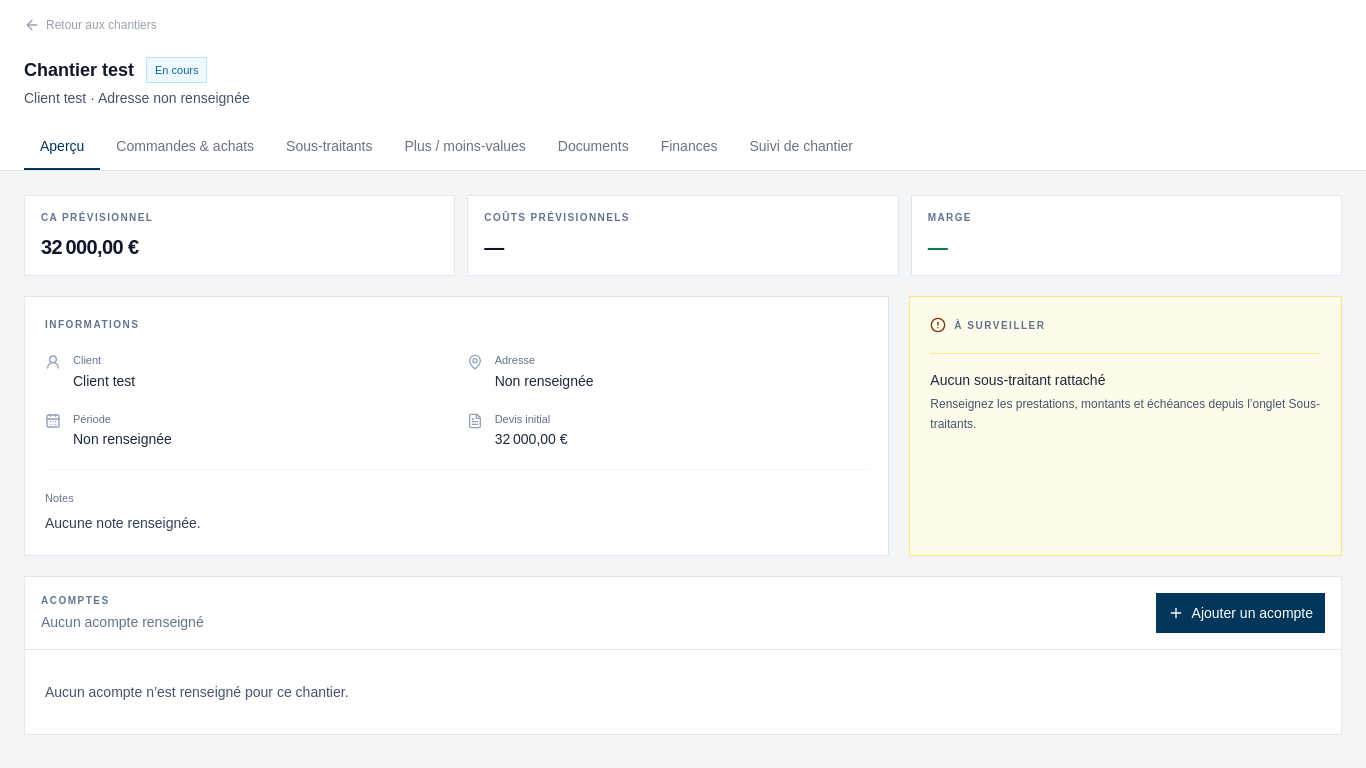
Test: chantier adjustment sheet › opens the clicked row in a right-hand sheet with its actual values
Click the button "Plus / moins-values" at coordinates (465, 147), box [388,124,542,170]
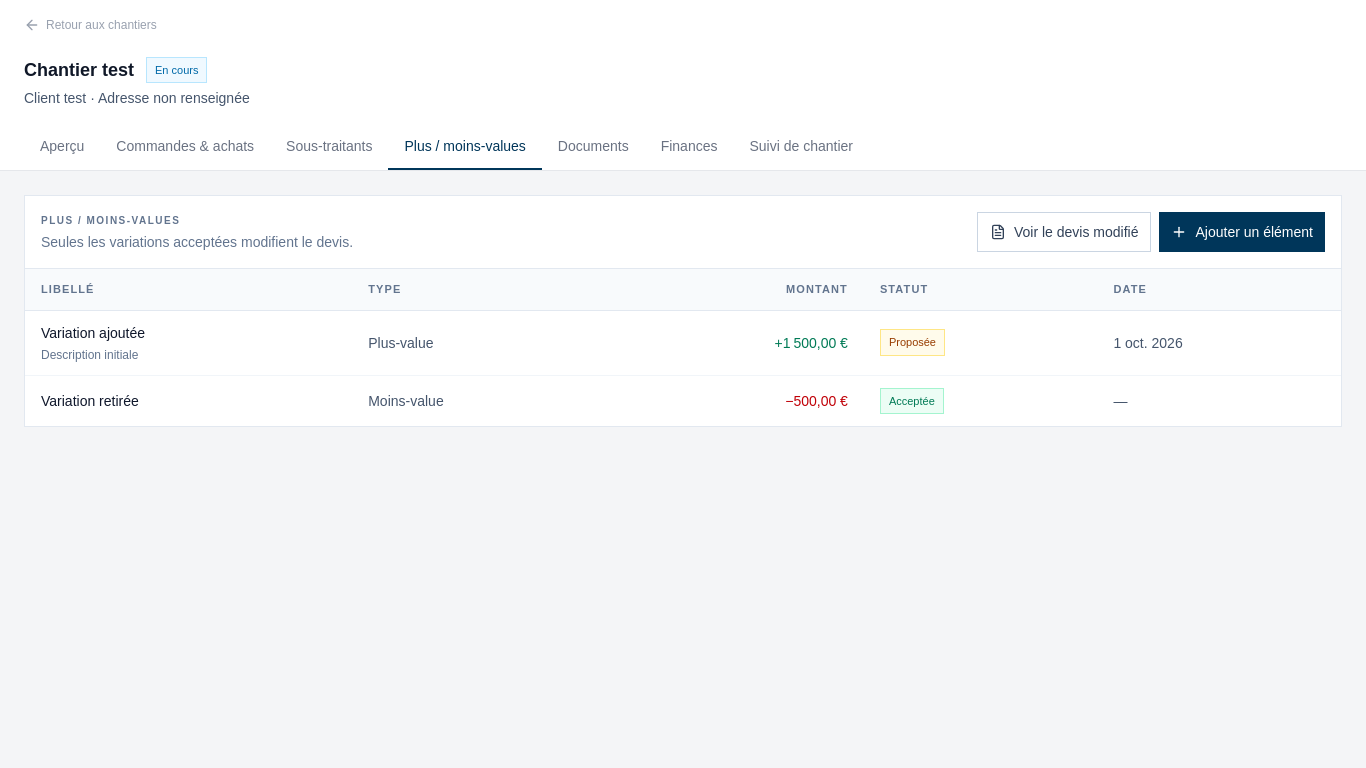
Click the row "Variation ajoutée" at coordinates (683, 342), box [25,310,1341,375]
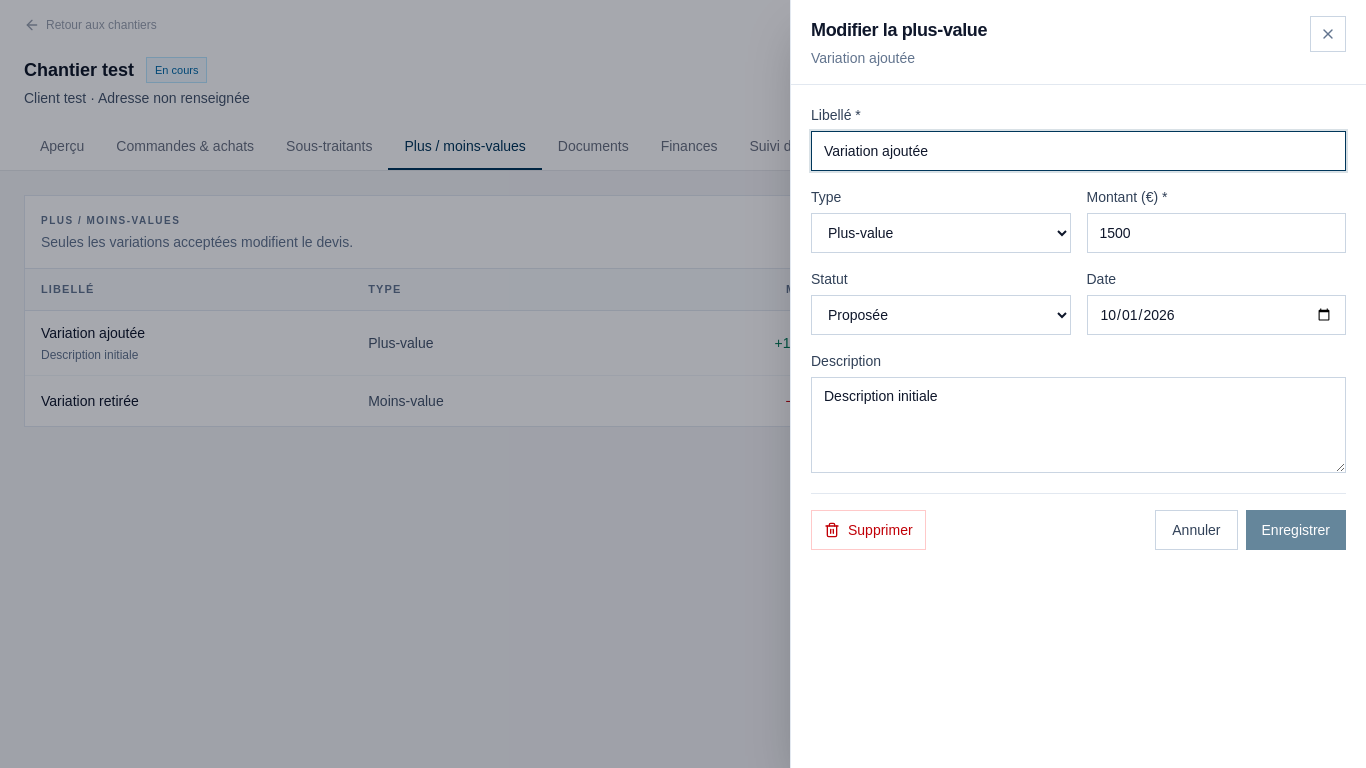
Expected: the field labelled "Libellé *" holds "Variation ajoutée", [811,131,1346,171]
Expected: the dropdown labelled "Type" shows "Plus-value", [811,213,1070,253]
Expected: the field labelled "Montant (€) *" holds "1500", [1086,213,1346,253]
